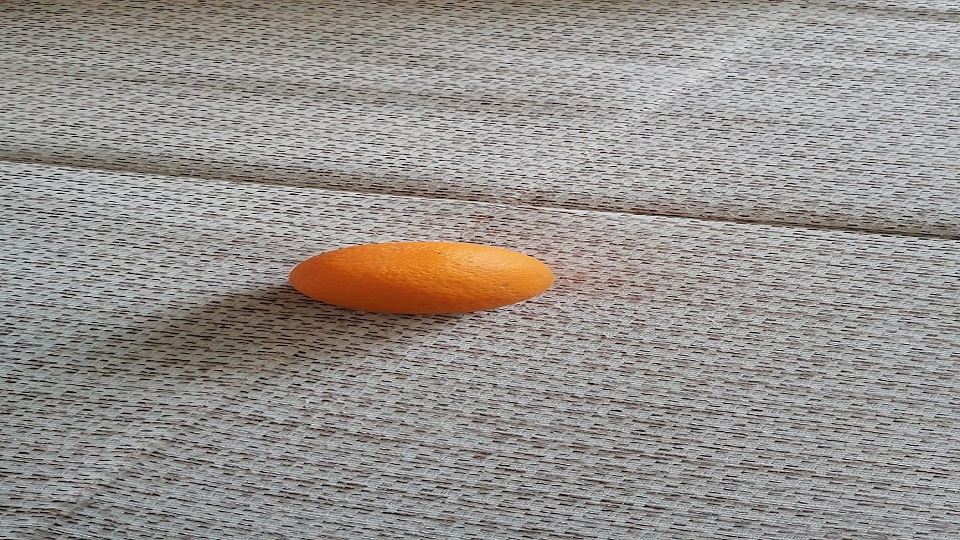portakal: (289, 240, 554, 315)
